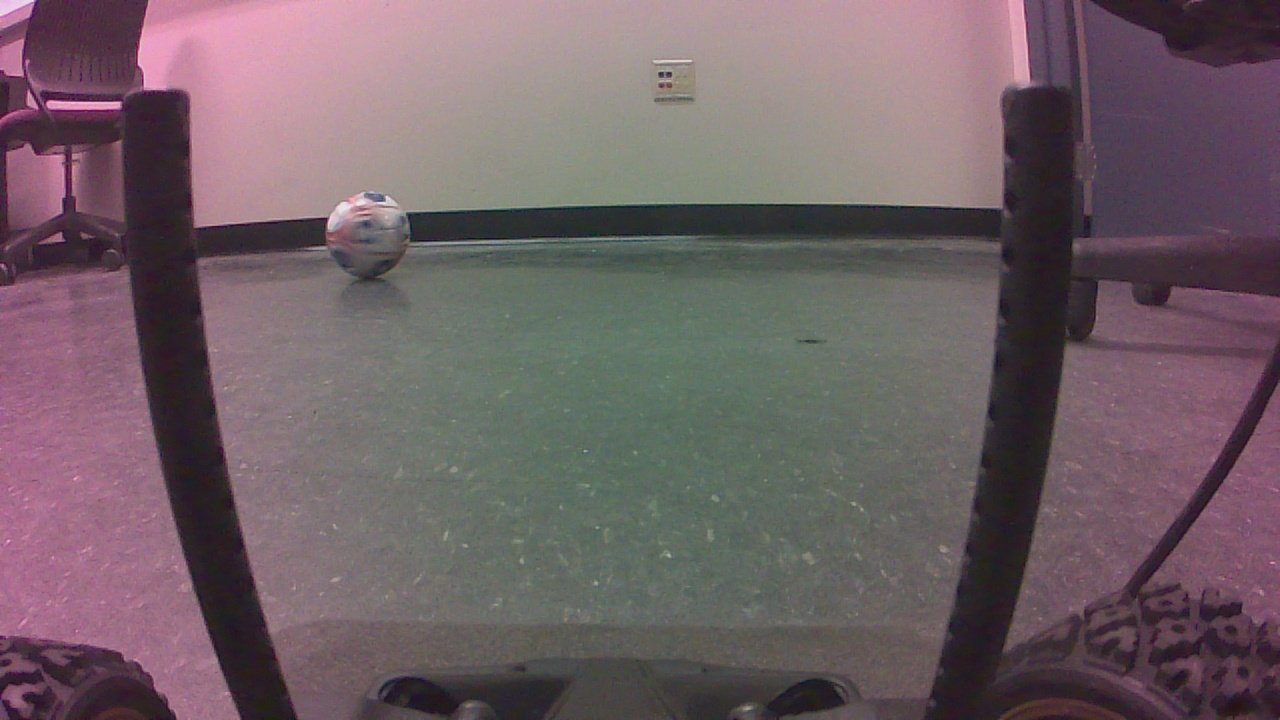ball: (332, 198, 417, 286)
